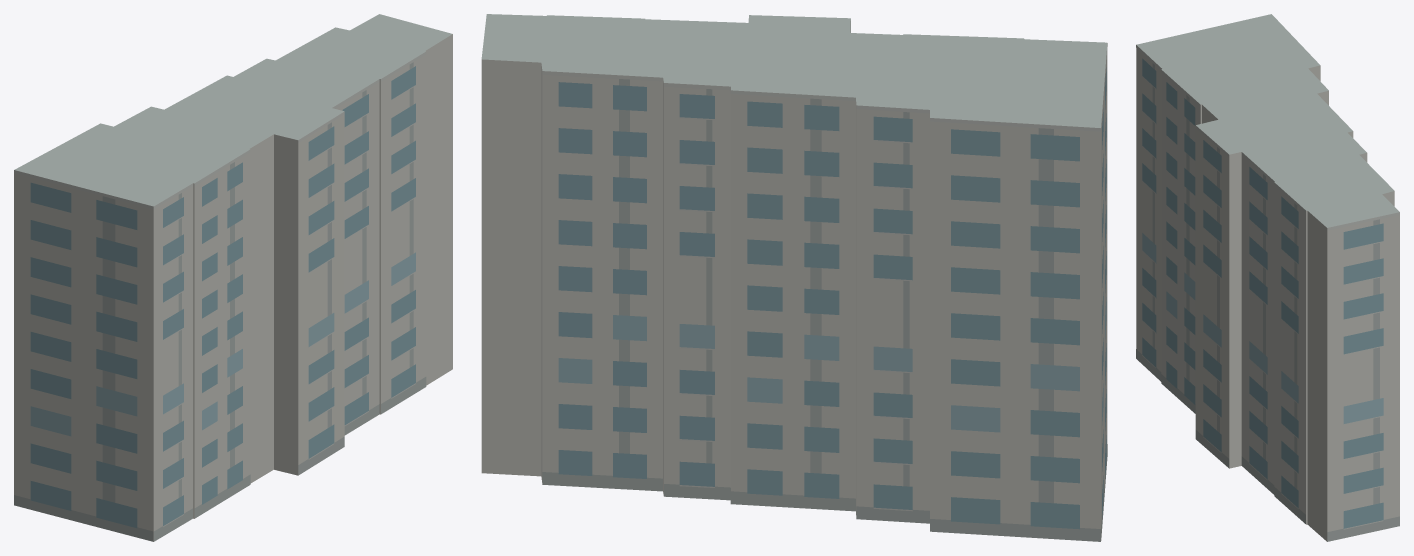
The model's file is survey-upis-32863818.glb.
The picture shows the model from 3 angles, left to right: view 1: azimuth 30°, elevation 25°; view 2: azimuth 150°, elevation 25°; view 3: azimuth 270°, elevation 25°; orthographic projection. The views are drawn at different scales.
Parts seen in each view (by area): view 1: survey-upis-32863818.tmp; view 2: survey-upis-32863818.tmp; view 3: survey-upis-32863818.tmp.
Boxes of the visible parts, left/top/right/bottom form: survey-upis-32863818.tmp: left=14, top=14, right=452, bottom=541; survey-upis-32863818.tmp: left=481, top=14, right=1107, bottom=541; survey-upis-32863818.tmp: left=1136, top=14, right=1399, bottom=541.
Bounding box in the file's own units: 40.13 × 27.45 × 20.9.
